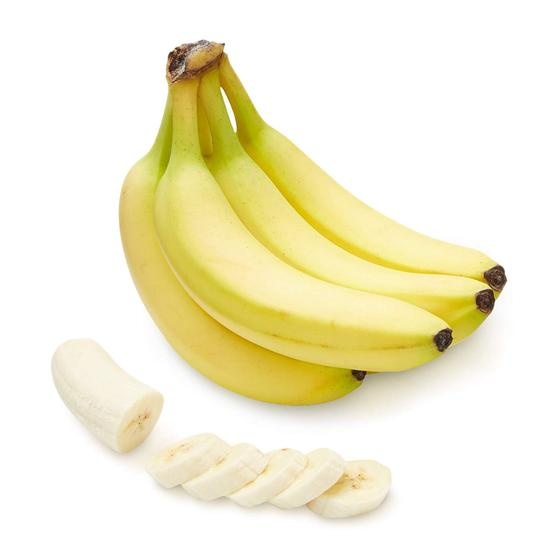banana: (93, 17, 525, 438)
